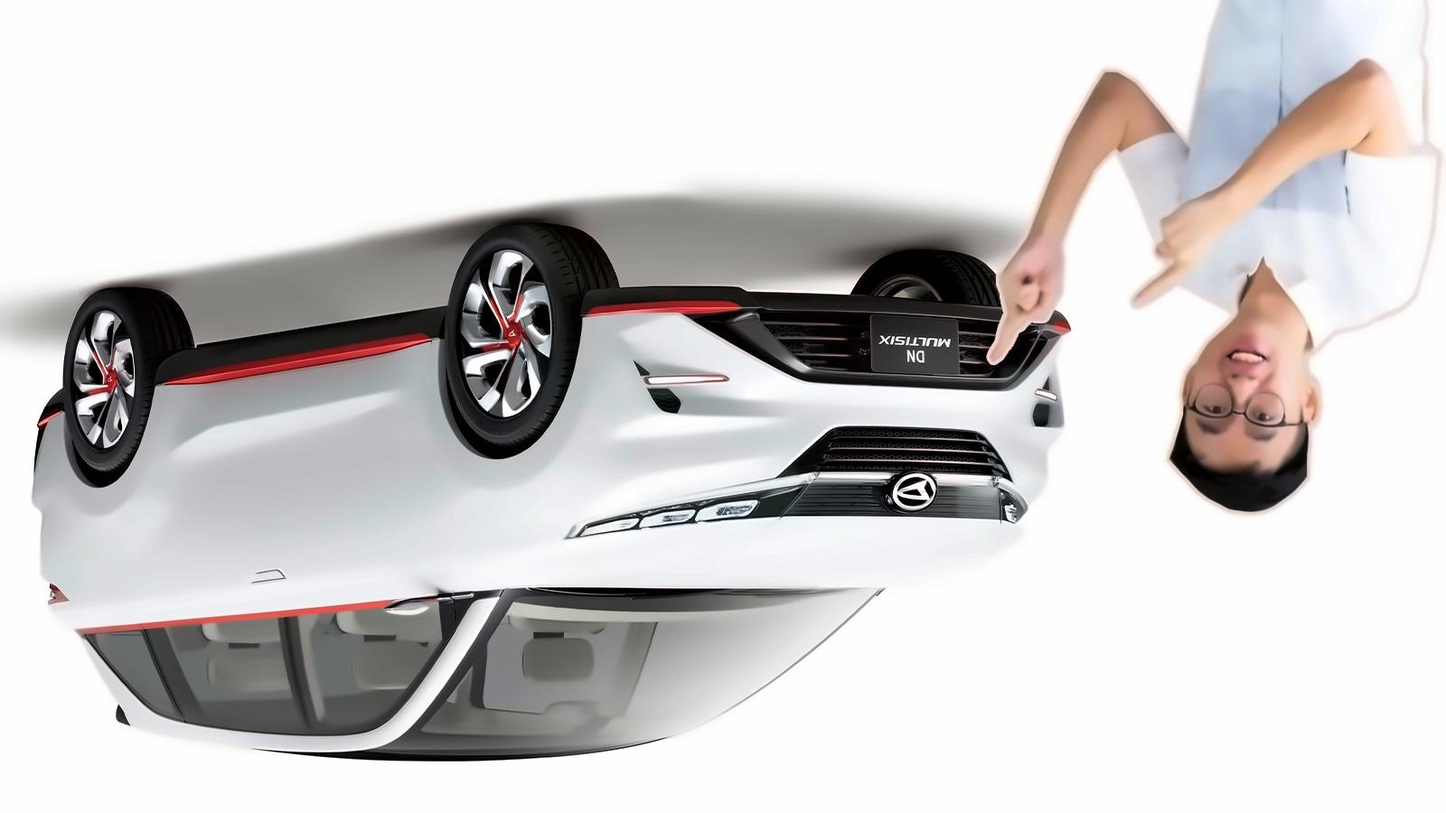Car hood: (541, 510, 1046, 592)
Fender - -F-L-: (421, 302, 573, 609)
Fender - -R-L-: (40, 358, 170, 597)
Front bumper: (533, 280, 1095, 445)
Headlight - -L-: (555, 463, 765, 548)
Headlight - -R-: (983, 479, 1043, 532)
Passenger-s door - -F-L-: (241, 331, 466, 758)
Passenger-s door - -R-L-: (78, 358, 292, 755)
Rear bumper: (22, 376, 89, 502)
Rear light - -L-: (25, 564, 73, 622)
Side bumper - -L-: (132, 293, 464, 395)
Side mirror - -L-: (381, 575, 454, 633)
